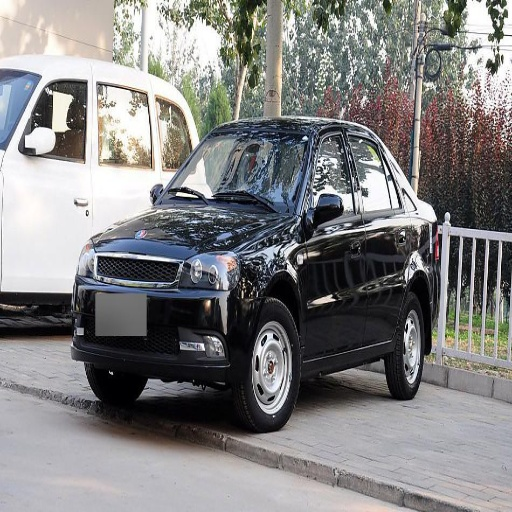front_bumper: (75, 250, 252, 379)
front_glass: (160, 124, 312, 210)
front_left_door: (306, 127, 365, 359), (26, 79, 98, 132)
